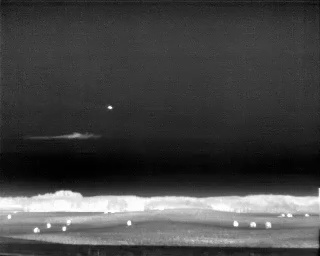BIRD: (106, 103, 114, 113)
